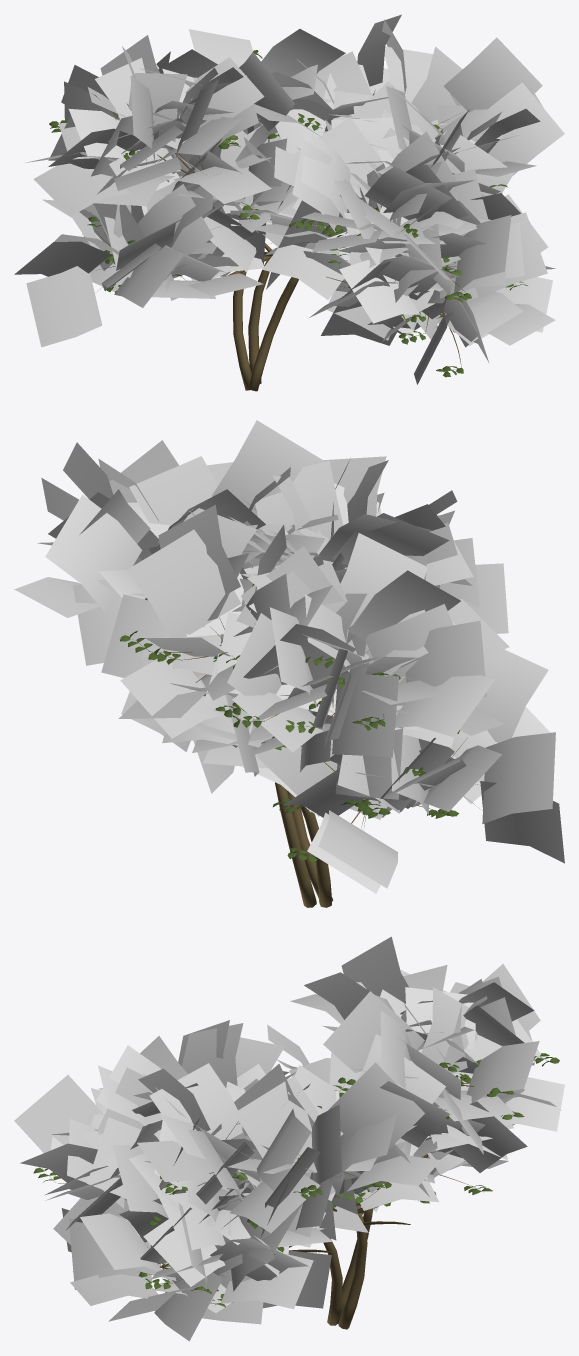
Rendered from Lentisque_Ancien_LOD0.fbx.
3 renders of one model, top to bottom at view 1: azimuth 30°, elevation 25°; view 2: azimuth 150°, elevation 25°; view 3: azimuth 270°, elevation 25°, orthographic. The views are drawn at different scales.
Parts seen in each view (by area): view 1: Lentisque_Ancien; view 2: Lentisque_Ancien; view 3: Lentisque_Ancien.
Part boxes in pixels (x1,y1,x2,y2): Lentisque_Ancien: [14, 14, 564, 391]; Lentisque_Ancien: [14, 420, 564, 907]; Lentisque_Ancien: [14, 936, 564, 1341].
Size of the model in its own units: 375 by 248 by 355.
